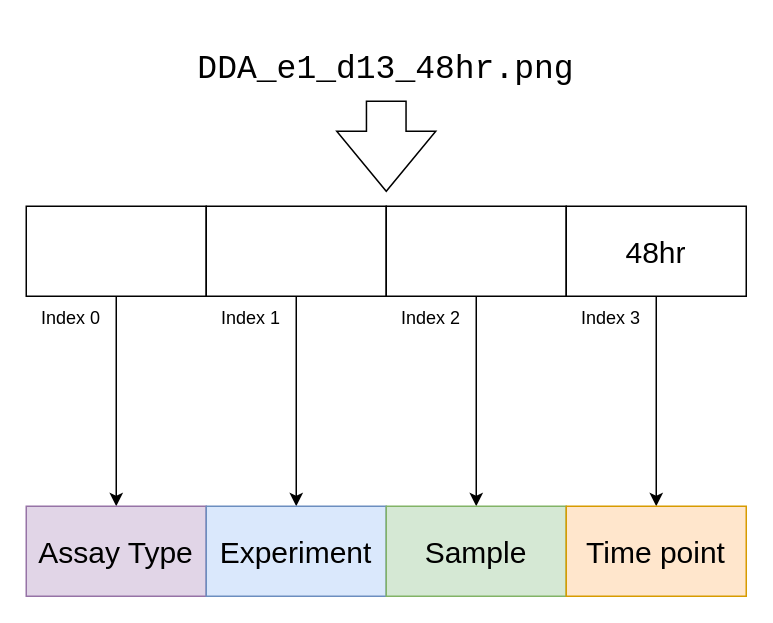
Some shapes in this 773 by 623 pixel diagram are drawn without their labels. Each missing label, with the centre of its shape:
d13: (x=475, y=250)
DDA: (x=115, y=250)
e1: (x=295, y=250)
